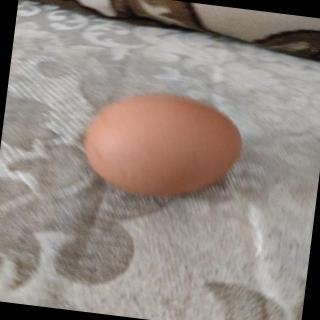Telur: (72, 85, 252, 211)
